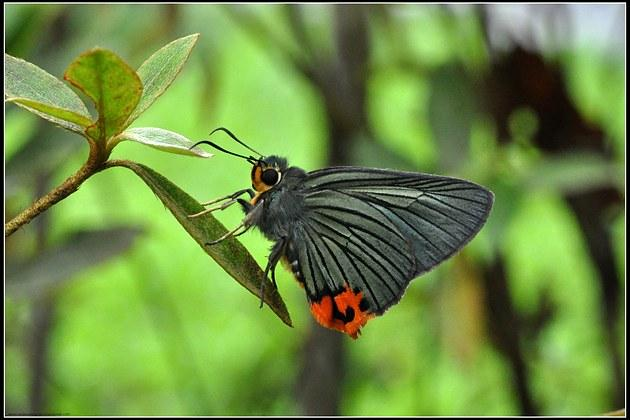Hesperiidae: (189, 126, 497, 342)
